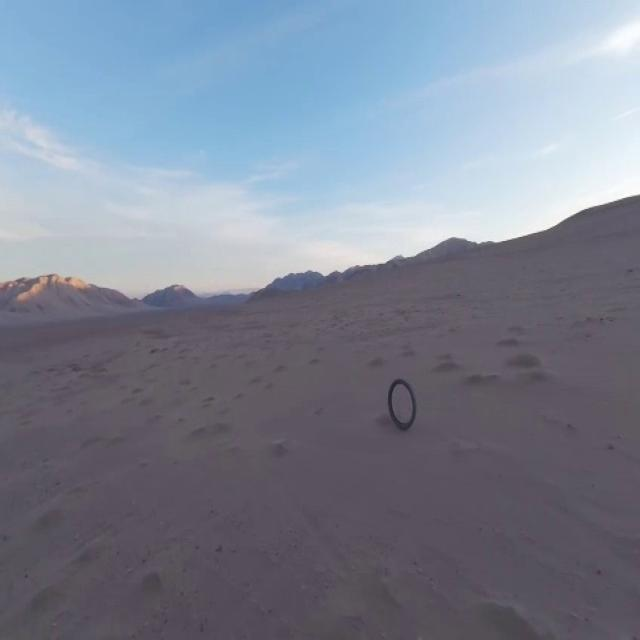Tire: (388, 379, 416, 428)
